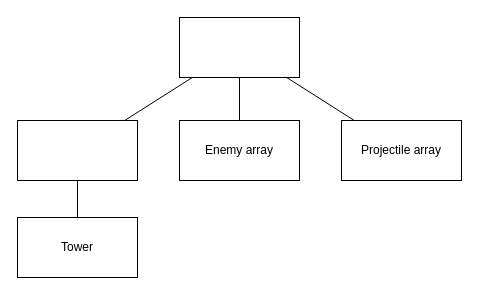
Some shapes in this 479 by 295 pixel diagram are drawn without their labels. The shapes that lost their labels are listed below. From the top down, each one's box as (x1, y1, x2, y2) in pixels, then its label:
(178, 16, 300, 78): Level
(16, 120, 138, 180): Tower grid
